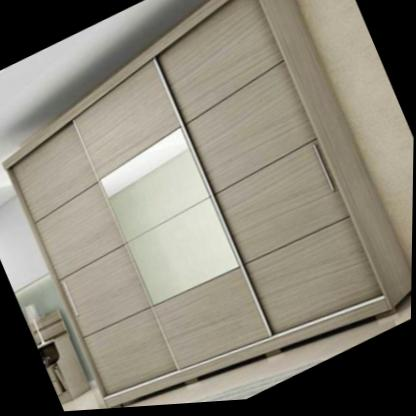Closet: (2, 0, 413, 410)
